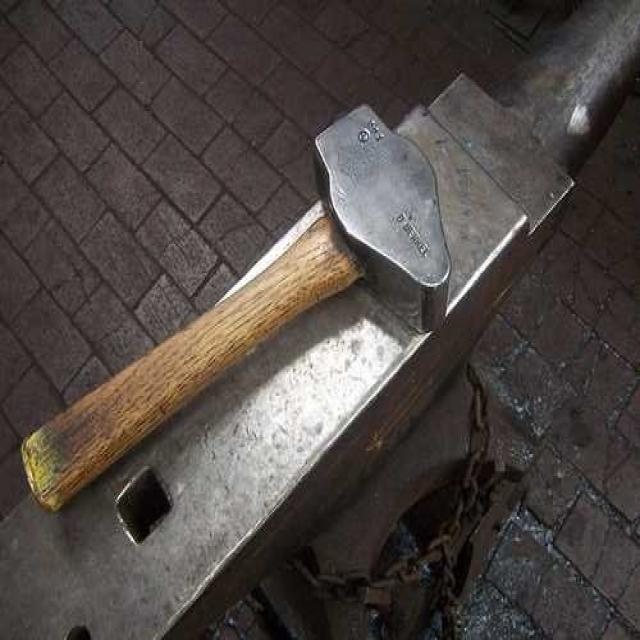hammer: (28, 98, 448, 510)
